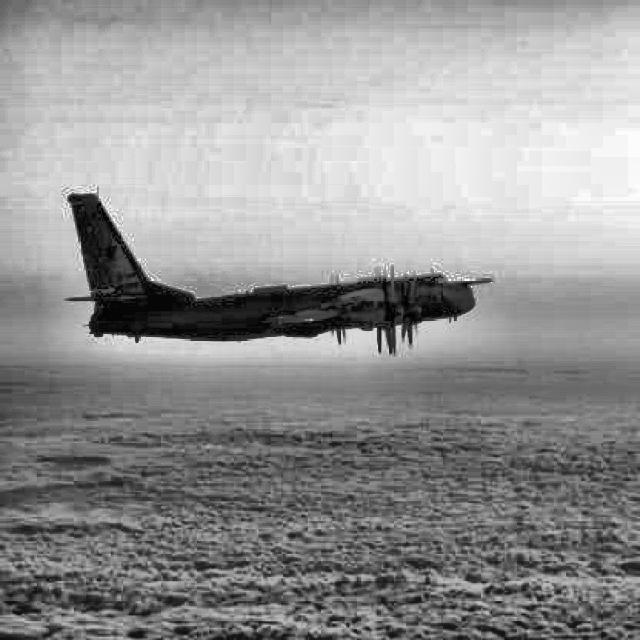Tu95: (63, 186, 494, 359)
